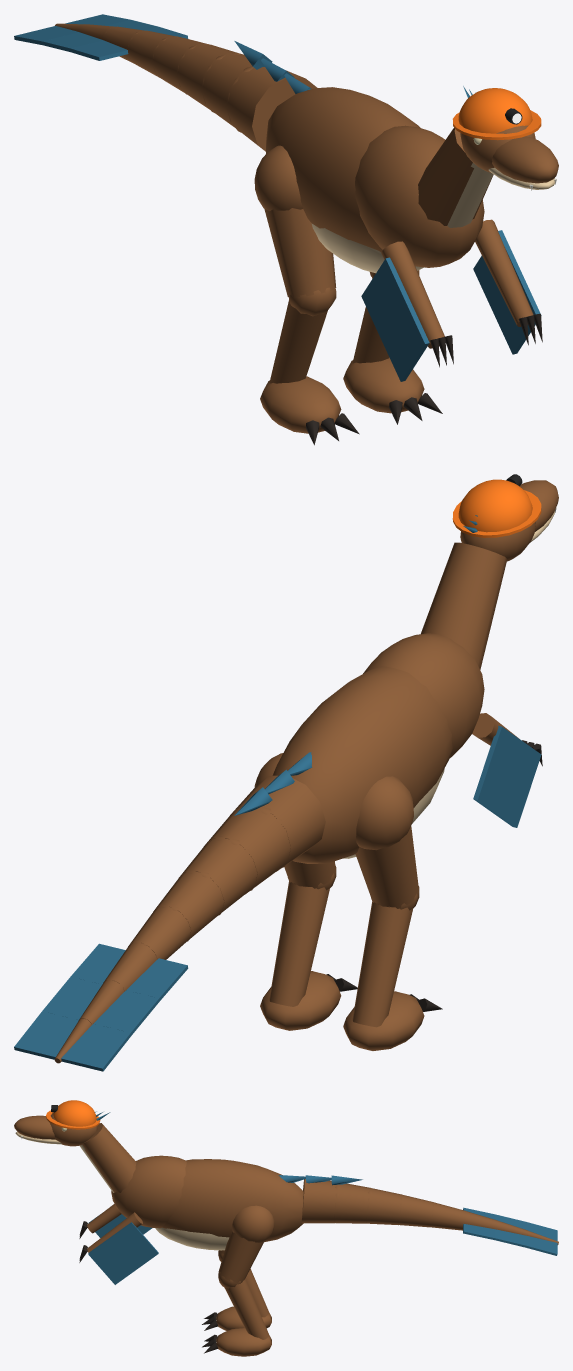
Rendered from dino_raptor_hff7a1a.glb.
3 views of the same model, one above another, from view 1: azimuth 30°, elevation 25°; view 2: azimuth 150°, elevation 25°; view 3: azimuth 270°, elevation 25° (orthographic). The views are drawn at different scales.
Visible parts, largest first — view 1: dino_hips, dino_head, dino_arms_0_sh, dino_legs_0_hip, dino_arms_1_sh, dino_neckBase, dino_legs_0_ankle, dino_legs_0_knee, dino_legs_1_ankle, dino_tail_0_p, dino_tail_1_p, dino_tail_2_p (+6 smaller); view 2: dino_hips, dino_legs_0_hip, dino_neckBase, dino_head, dino_arms_0_sh, dino_legs_1_knee, dino_legs_0_knee, dino_tail_7_p, dino_tail_6_p, dino_tail_5_p, dino_tail_1_p, dino_tail_0_p (+6 smaller); view 3: dino_hips, dino_arms_1_sh, dino_head, dino_legs_1_hip, dino_neckBase, dino_tail_0_p, dino_legs_1_knee, dino_legs_1_ankle, dino_tail_1_p, dino_tail_2_p, dino_tail_3_p, dino_tail_5_p (+6 smaller).
Boxes of the visible parts, box(x1,y1,x2,y2) form: dino_hips: box(234, 41, 484, 273); dino_head: box(452, 86, 558, 190); dino_arms_0_sh: box(361, 241, 453, 381); dino_legs_0_hip: box(254, 145, 336, 297); dino_arms_1_sh: box(473, 219, 542, 354); dino_neckBase: box(418, 128, 493, 227); dino_legs_0_ankle: box(260, 376, 359, 445); dino_legs_0_knee: box(269, 287, 336, 383); dino_legs_1_ankle: box(343, 357, 442, 424); dino_tail_0_p: box(225, 67, 317, 151); dino_tail_1_p: box(201, 53, 253, 132); dino_tail_2_p: box(176, 44, 240, 112); dino_hips: box(234, 633, 484, 863); dino_legs_0_hip: box(355, 776, 419, 908); dino_neckBase: box(421, 542, 507, 669); dino_head: box(452, 474, 558, 561); dino_arms_0_sh: box(472, 713, 542, 827); dino_legs_1_knee: box(269, 865, 336, 1006); dino_legs_0_knee: box(352, 886, 419, 1027); dino_tail_7_p: box(14, 1011, 131, 1071); dino_tail_6_p: box(42, 977, 159, 1035); dino_tail_5_p: box(70, 940, 188, 1000); dino_tail_1_p: box(204, 807, 291, 894); dino_tail_0_p: box(230, 775, 325, 871); dino_hips: box(111, 1155, 362, 1250); dino_arms_1_sh: box(79, 1212, 158, 1284); dino_head: box(14, 1100, 110, 1146); dino_legs_1_hip: box(218, 1205, 274, 1282); dino_neckBase: box(79, 1123, 136, 1192); dino_tail_0_p: box(301, 1179, 337, 1223); dino_legs_1_knee: box(218, 1271, 268, 1339); dino_legs_1_ankle: box(202, 1328, 271, 1356); dino_tail_1_p: box(332, 1183, 370, 1223); dino_tail_2_p: box(365, 1187, 402, 1225); dino_tail_3_p: box(397, 1194, 434, 1227); dino_tail_5_p: box(461, 1207, 497, 1239).
Bounding box in the file's own units: 0.646 × 1.8 × 3.7.
